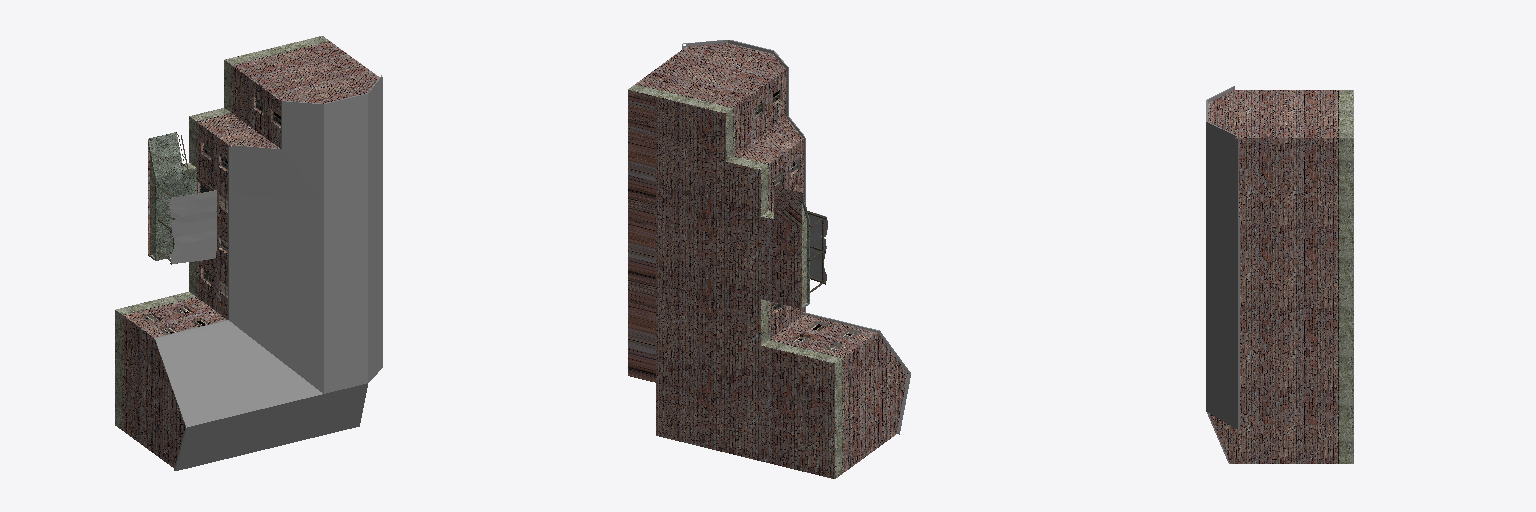
3 views of the same model, side by side, from view 1: azimuth 30°, elevation 25°; view 2: azimuth 150°, elevation 25°; view 3: azimuth 270°, elevation 25° (orthographic).
Visible parts, largest first — view 1: MDL_Box012; view 2: MDL_Box012; view 3: MDL_Box012.
Boxes of the visible parts, x1,y1,x2,y2 form: MDL_Box012: [115, 36, 382, 470]; MDL_Box012: [628, 40, 910, 478]; MDL_Box012: [1206, 86, 1353, 463].
Size of the model in its own units: 28.7 by 44.06 by 17.21.
Materials: 7 (6 with a texture image).